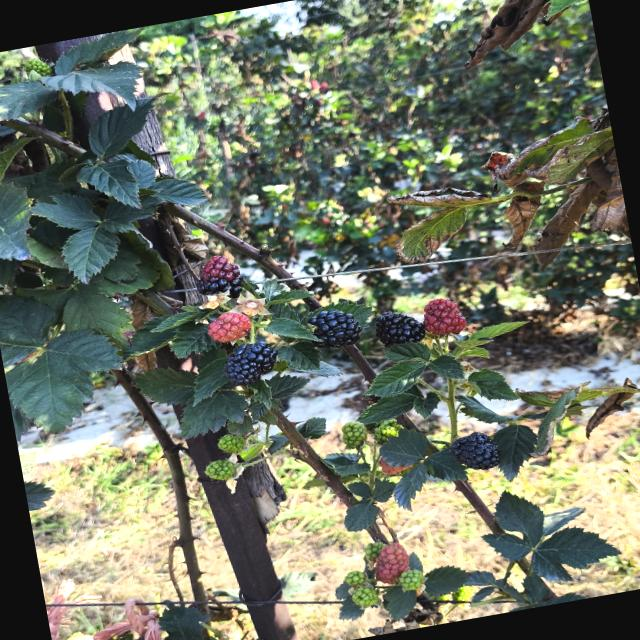maduro: (224, 341, 277, 385), (308, 309, 362, 347), (450, 432, 499, 469), (375, 311, 425, 346)
marron: (196, 256, 242, 298)
naranja: (423, 298, 466, 335), (207, 311, 251, 342), (375, 543, 408, 584)
verde: (341, 422, 367, 448), (205, 459, 235, 479), (351, 585, 378, 607), (397, 569, 423, 590), (217, 434, 245, 453), (364, 541, 386, 561), (344, 570, 367, 586)
